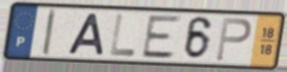6: (181, 16, 214, 62)
A: (65, 12, 106, 57)
E: (139, 15, 184, 60)
I: (41, 8, 58, 57)
L: (108, 13, 138, 59)
P: (214, 16, 254, 63)
